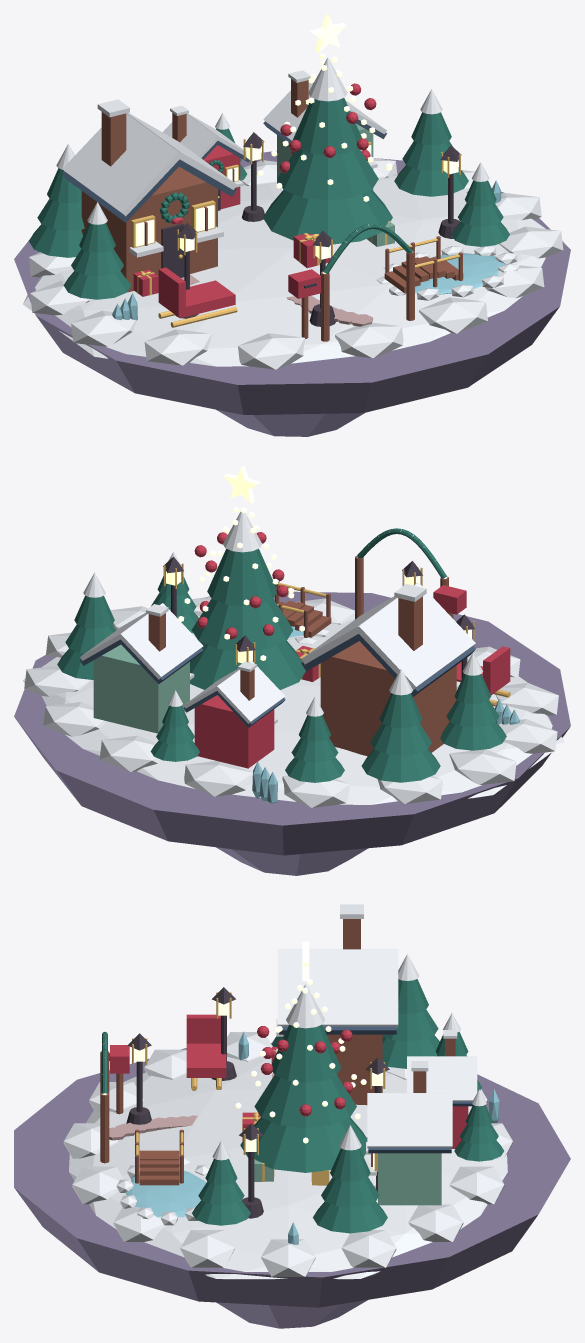
Rendered from world.glb.
3 renders of one model, top to bottom at view 1: azimuth 30°, elevation 25°; view 2: azimuth 150°, elevation 25°; view 3: azimuth 270°, elevation 25°, orthographic.
Parts seen in each view (by area): view 1: Snow plateau, Floating island terrace, Roof snow, Cottage walls.001, Faceted pine, Faceted pine.001, Faceted pine.002, Floating island lower, Snow edge.010, Snow edge.009, Snow edge.011, Snow edge.012 (+37 smaller); view 2: Floating island terrace, Snow plateau, Cottage walls.001, Cottage walls.002, Roof snow, Cottage walls, Faceted pine.001, Faceted pine, Faceted pine.002, Roof snow.002, Floating island lower, Faceted pine.006 (+35 smaller); view 3: Floating island terrace, Snow plateau, Roof snow.001, Roof snow.003, Faceted pine, Faceted pine.001, Cottage walls.002, Faceted pine.002, Roof snow.005, Floating island lower, Cottage walls.001, Frozen pond (+31 smaller).
Part boxes in pixels (left/top/right/bottom): Snow plateau: left=23, top=174, right=564, bottom=366; Floating island terrace: left=14, top=151, right=570, bottom=414; Roof snow: left=62, top=114, right=182, bottom=216; Cottage walls.001: left=81, top=167, right=217, bottom=292; Faceted pine: left=263, top=190, right=392, bottom=244; Faceted pine.001: left=277, top=148, right=378, bottom=200; Faceted pine.002: left=293, top=98, right=361, bottom=154; Floating island lower: left=216, top=409, right=364, bottom=436; Snow edge.010: left=238, top=333, right=305, bottom=369; Snow edge.009: left=144, top=329, right=211, bottom=365; Snow edge.011: left=335, top=322, right=403, bottom=358; Snow edge.012: left=419, top=297, right=487, bottom=333; Floating island terrace: left=14, top=591, right=570, bottom=855; Snow plateau: left=23, top=619, right=564, bottom=804; Cottage walls.001: left=320, top=641, right=456, bottom=756; Cottage walls.002: left=93, top=644, right=189, bottom=733; Roof snow: left=356, top=583, right=475, bottom=690; Cottage walls: left=194, top=695, right=274, bottom=768; Faceted pine.001: left=192, top=599, right=293, bottom=650; Faceted pine: left=190, top=641, right=305, bottom=689; Faceted pine.002: left=207, top=548, right=276, bottom=606; Roof snow.002: left=119, top=603, right=203, bottom=679; Floating island lower: left=216, top=847, right=367, bottom=875; Faceted pine.006: left=361, top=749, right=440, bottom=782; Floating island terrace: left=14, top=1043, right=570, bottom=1307; Snow plateau: left=69, top=1056, right=507, bottom=1279; Roof snow.001: left=277, top=950, right=398, bottom=1027; Roof snow.003: left=367, top=1093, right=452, bottom=1148; Faceted pine: left=240, top=1117, right=367, bottom=1172; Faceted pine.001: left=254, top=1075, right=356, bottom=1128; Cottage walls.002: left=378, top=1153, right=441, bottom=1205; Faceted pine.002: left=271, top=1024, right=341, bottom=1082; Roof snow.005: left=407, top=1056, right=477, bottom=1101; Floating island lower: left=216, top=1300, right=367, bottom=1328; Cottage walls.001: left=327, top=1034, right=382, bottom=1105; Frozen pond: left=125, top=1169, right=205, bottom=1217.
Bounding box in the file's own units: 2.28 × 1.71 × 2.25.
